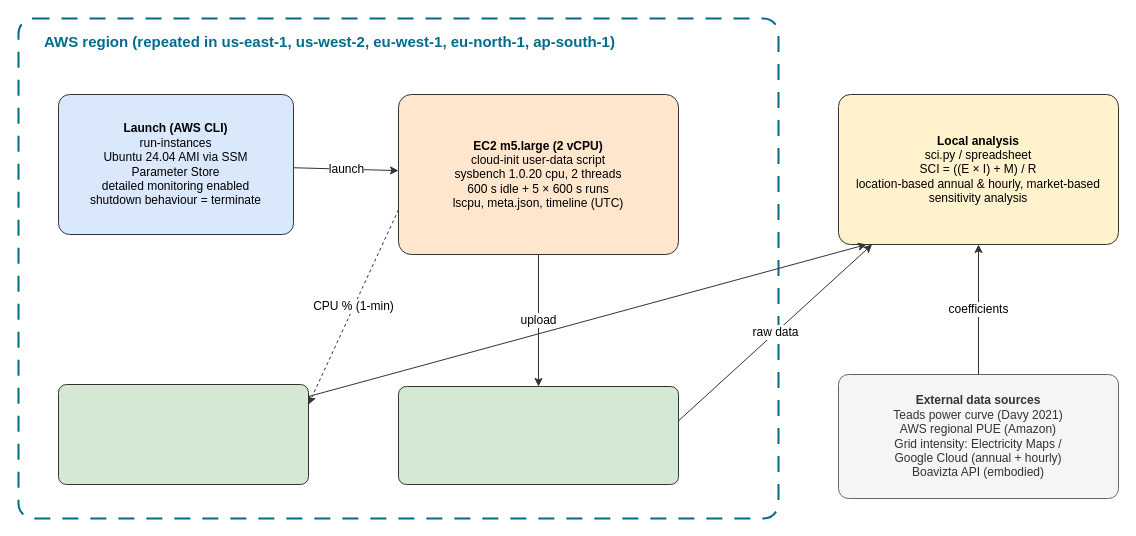
The diagram is 1136 pixels wide and 536 high, and some of its shapes have lost their labels. The shapes that lost their labels are listed below. From the top down, each one's centre as x and y in pixels, then its label:
(183,434): Amazon CloudWatch CPUUtilization, 1-minute hypervisor-side measurement
(538,435): Amazon S3 (same region) sysbench output, lscpu, meta.json, timeline
